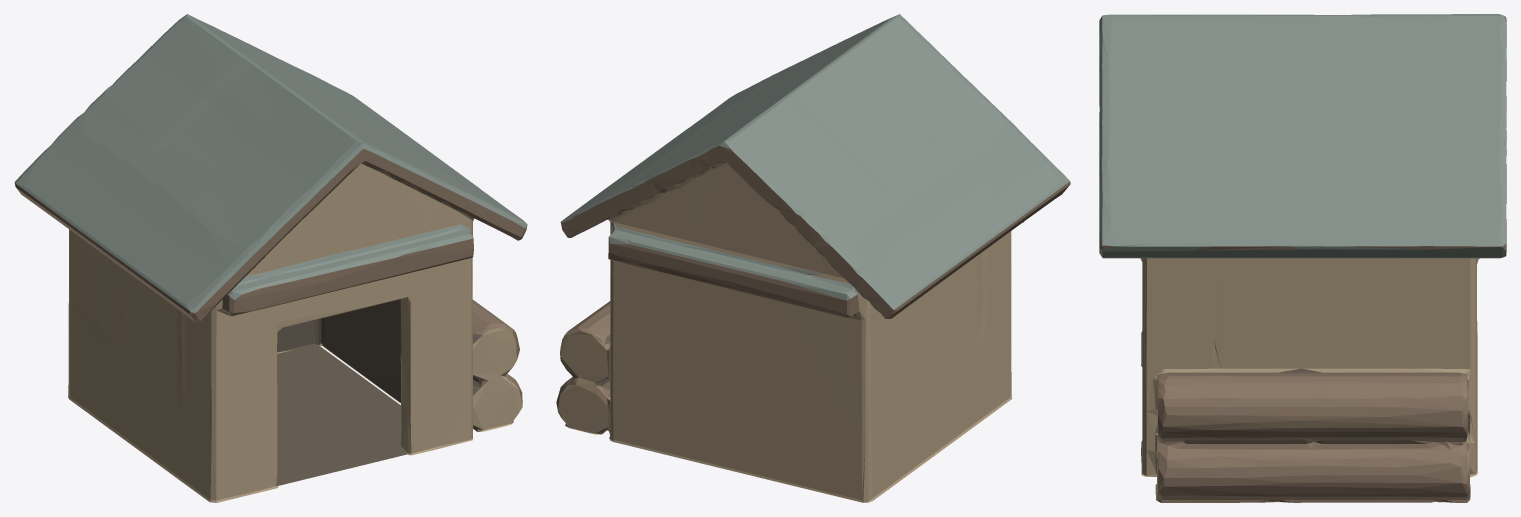
3 views of the same model, side by side, from view 1: azimuth 30°, elevation 25°; view 2: azimuth 150°, elevation 25°; view 3: azimuth 270°, elevation 25° (orthographic). The views are drawn at different scales.
Visible parts, largest first — view 1: geometry_0; view 2: geometry_0; view 3: geometry_0.
Part boxes in pixels (x1=…): geometry_0: x1=14, y1=14, x2=527, y2=502; geometry_0: x1=556, y1=14, x2=1070, y2=502; geometry_0: x1=1099, y1=14, x2=1506, y2=502.
Bounding box in the file's own units: 0.9446 × 0.8561 × 0.8121.
